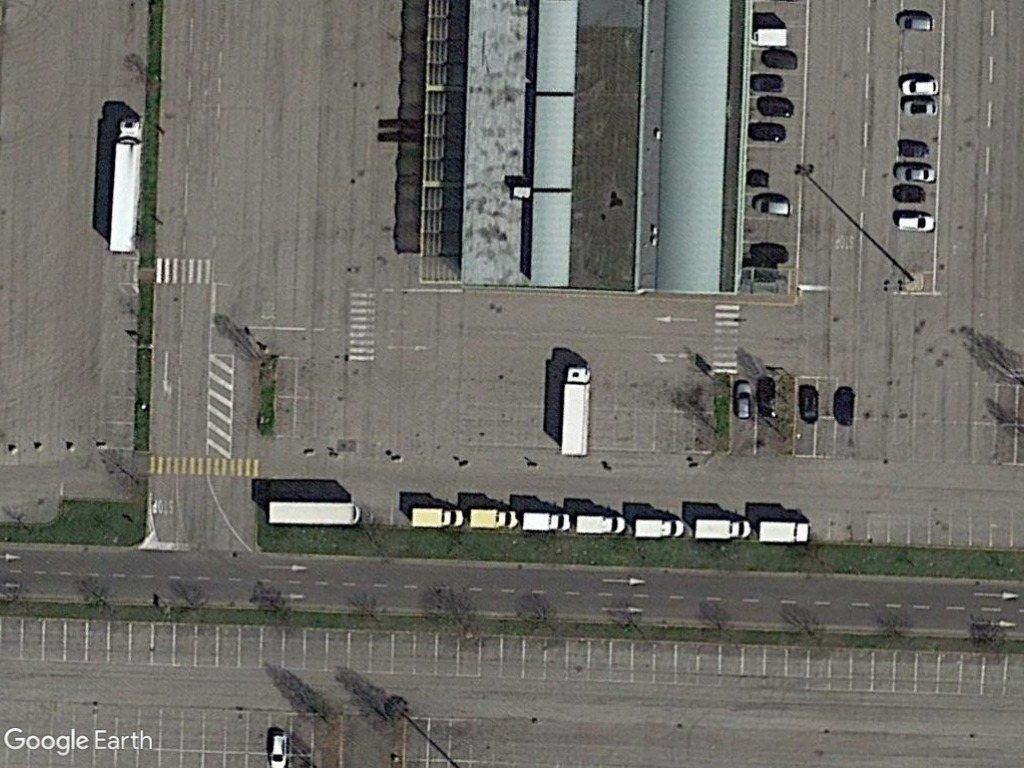car: (748, 191, 798, 219), (890, 157, 939, 184), (897, 71, 943, 98), (731, 375, 757, 422), (891, 8, 936, 35), (894, 210, 938, 234), (896, 95, 941, 116), (266, 729, 289, 768)
longvehicle: (103, 113, 143, 256), (262, 495, 365, 528)
truck: (554, 362, 595, 461), (751, 514, 816, 545), (690, 516, 754, 544), (628, 514, 688, 543), (407, 503, 467, 530), (464, 505, 524, 530), (518, 508, 571, 534), (572, 514, 630, 536)
